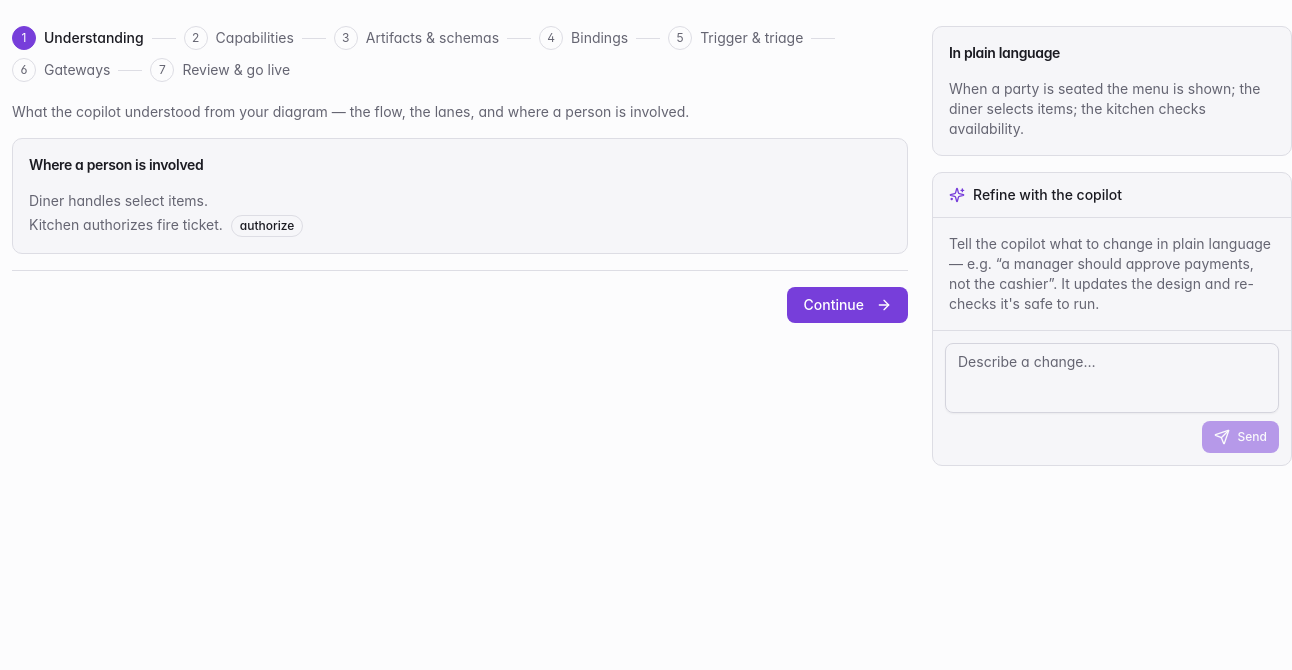
Test: Copilot flow — Review › gates go-live on clean validation — errors disable Approve on the Review step
Click the button "7 Review & go live".
click(220, 70)  # box [150,58,290,82]
(page scrolled)
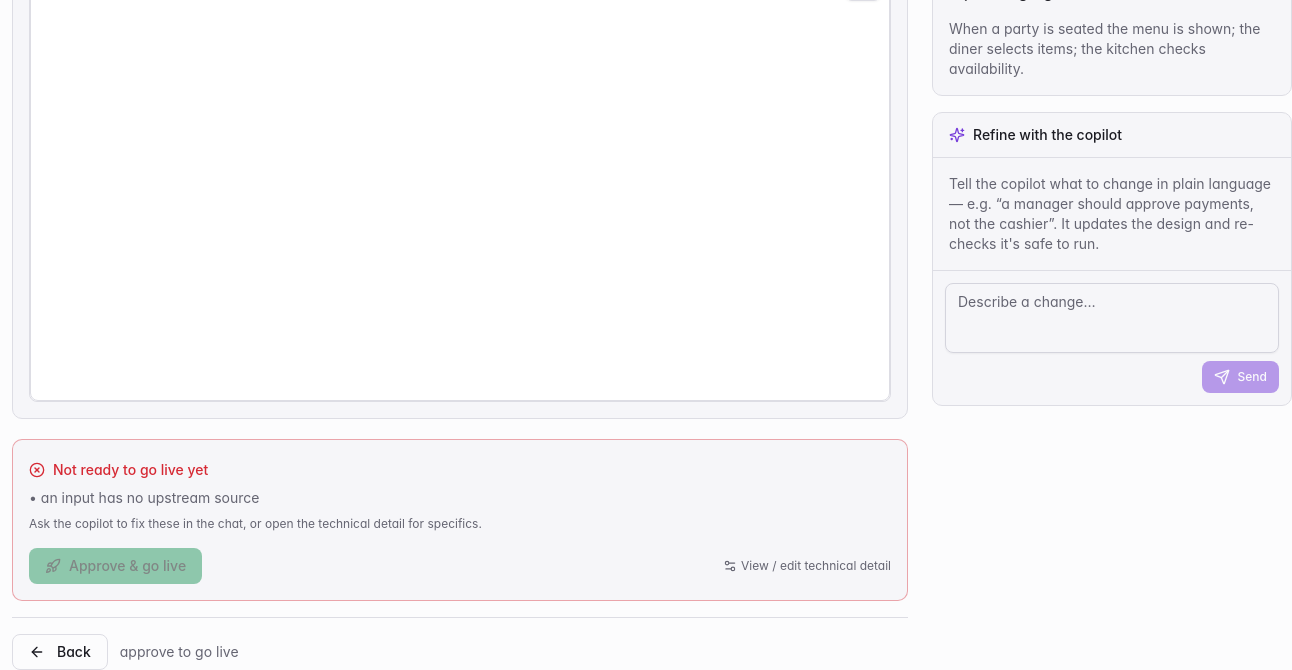
Now the text "Not ready to go live yet" is shown, box [29,461,208,478]
Now the list item "• an input has no upstream source" is shown, box [29,489,260,506]
Now the button "Approve & go live" is disabled, box [29,548,202,584]
